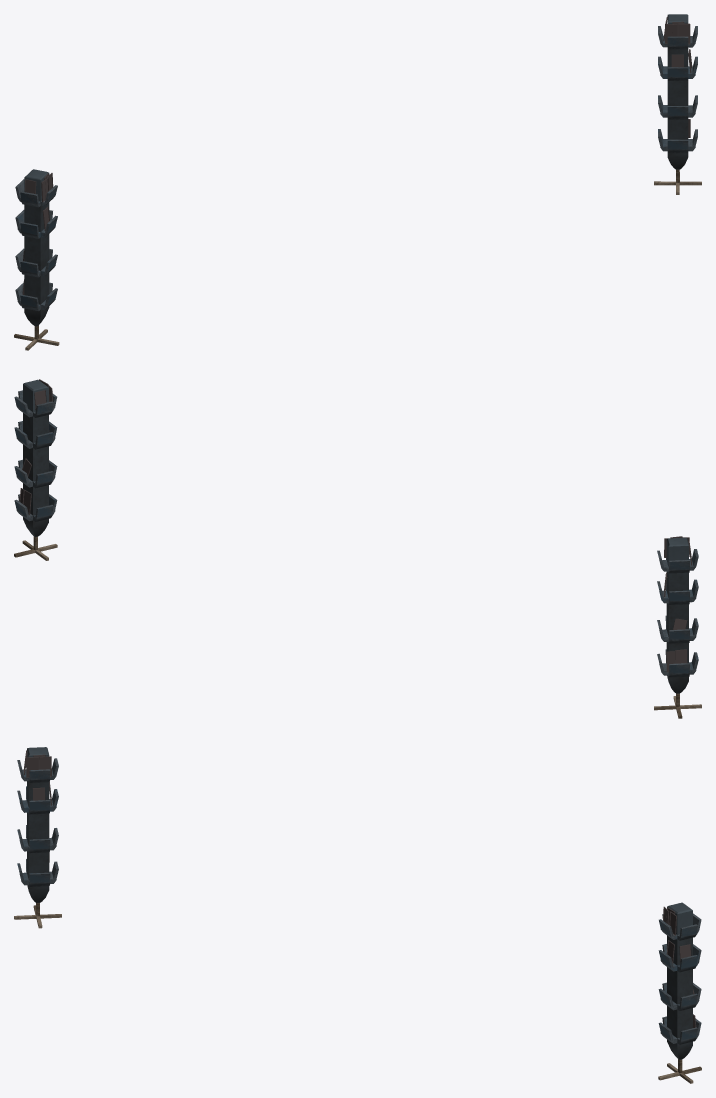
File: posterstand.glb
The picture shows the model from 3 angles, top to bottom: view 1: azimuth 30°, elevation 25°; view 2: azimuth 150°, elevation 25°; view 3: azimuth 330°, elevation 25°; orthographic projection.
Visible parts, largest first — view 1: Magazine_Modular_props2_0; view 2: Magazine_Modular_props2_0; view 3: Magazine_Modular_props2_0.
Boxes of the visible parts, <box> form: Magazine_Modular_props2_0: <box>14,14,701,350</box>; Magazine_Modular_props2_0: <box>14,379,701,718</box>; Magazine_Modular_props2_0: <box>14,747,701,1083</box>.
Size of the model in its own units: 7.83 by 1.84 by 0.4337.
Materials: 1 (1 with a texture image).
